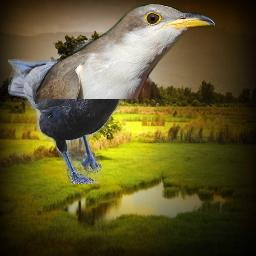Crow: (8, 40, 141, 184)
Cuckoo: (36, 3, 215, 99)
